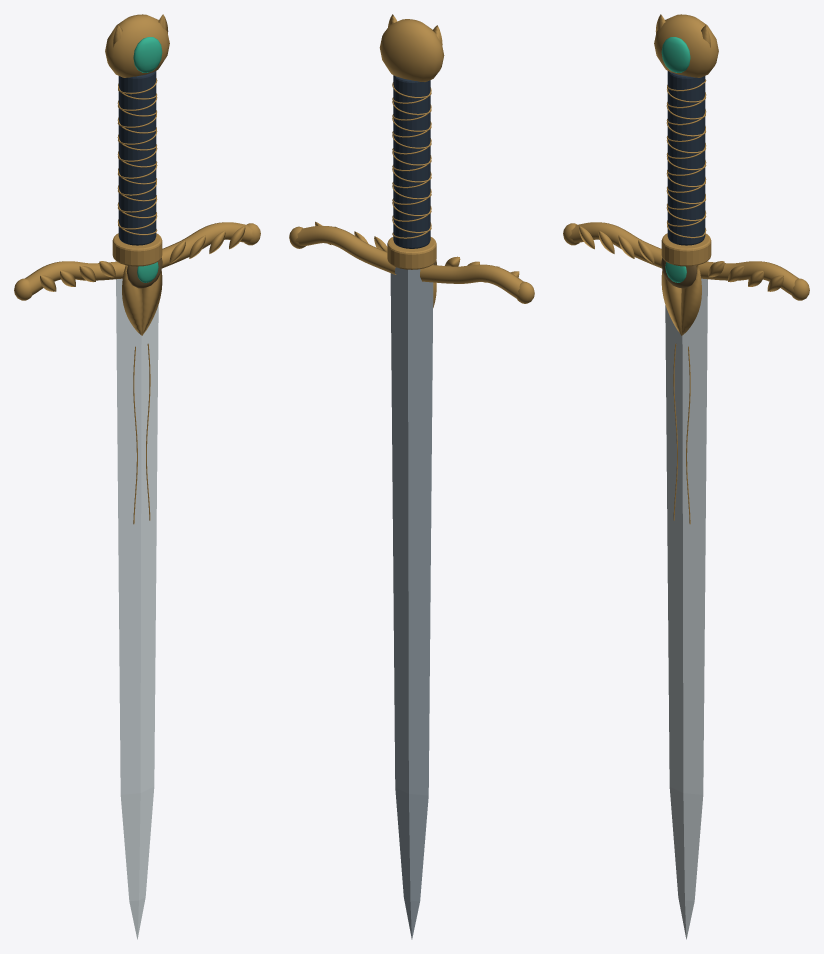
Rendered from EDH_Sariwa_Sword.glb.
3 views of the same model, side by side, from view 1: azimuth 30°, elevation 25°; view 2: azimuth 150°, elevation 25°; view 3: azimuth 330°, elevation 25° (orthographic).
Visible parts, largest first — view 1: Sariwa | diamond blade, Sariwa | leather grip, Sariwa | pommel, Sword | swept guard.003, Sword | swept guard.002, Sariwa | grip collar, Sword | langet.002, Sariwa | pommel jade, Sword | crossed fine grip wire.002, Sword | crossed fine grip wire.003, Sword | langet.003; view 2: Sariwa | diamond blade, Sariwa | leather grip, Sariwa | pommel, Sword | swept guard.002, Sword | swept guard.003, Sariwa | grip collar, Sword | crossed fine grip wire.003, Sword | crossed fine grip wire.002; view 3: Sariwa | diamond blade, Sariwa | leather grip, Sariwa | pommel, Sword | swept guard.002, Sword | swept guard.003, Sariwa | grip collar, Sword | langet.003, Sariwa | pommel jade, Sword | crossed fine grip wire.003, Sword | crossed fine grip wire.002, Sword | langet.002.
Boxes of the visible parts, <box> form: Sariwa | diamond blade: <box>116,278,158,939</box>; Sariwa | leather grip: <box>118,71,156,245</box>; Sariwa | pommel: <box>105,14,169,77</box>; Sword | swept guard.003: <box>161,222,255,268</box>; Sword | swept guard.002: <box>25,261,125,295</box>; Sariwa | grip collar: <box>112,233,162,266</box>; Sword | langet.002: <box>122,265,142,335</box>; Sariwa | pommel jade: <box>133,37,162,72</box>; Sword | crossed fine grip wire.002: <box>117,83,157,235</box>; Sword | crossed fine grip wire.003: <box>117,78,157,229</box>; Sword | langet.003: <box>142,271,162,335</box>; Sariwa | diamond blade: <box>390,267,433,939</box>; Sariwa | leather grip: <box>393,75,430,248</box>; Sariwa | pommel: <box>379,19,444,81</box>; Sword | swept guard.002: <box>420,264,523,298</box>; Sword | swept guard.003: <box>295,225,396,274</box>; Sariwa | grip collar: <box>387,237,436,269</box>; Sword | crossed fine grip wire.003: <box>392,87,431,238</box>; Sword | crossed fine grip wire.002: <box>392,82,431,233</box>; Sariwa | diamond blade: <box>665,278,707,939</box>; Sariwa | leather grip: <box>667,71,705,245</box>; Sariwa | pommel: <box>654,14,718,77</box>; Sword | swept guard.002: <box>568,222,662,268</box>; Sword | swept guard.003: <box>698,261,798,295</box>; Sariwa | grip collar: <box>661,233,711,266</box>; Sword | langet.003: <box>681,265,701,335</box>; Sariwa | pommel jade: <box>661,37,690,72</box>; Sword | crossed fine grip wire.003: <box>666,83,706,235</box>; Sword | crossed fine grip wire.002: <box>666,79,706,238</box>; Sword | langet.002: <box>661,271,681,335</box>.
Size of the model in its own units: 0.272 by 0.981 by 0.05.
